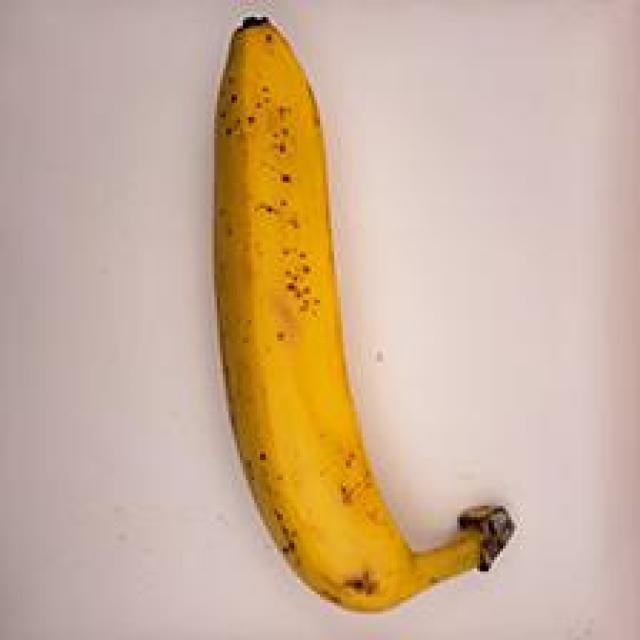Overripe: (150, 8, 526, 628)
